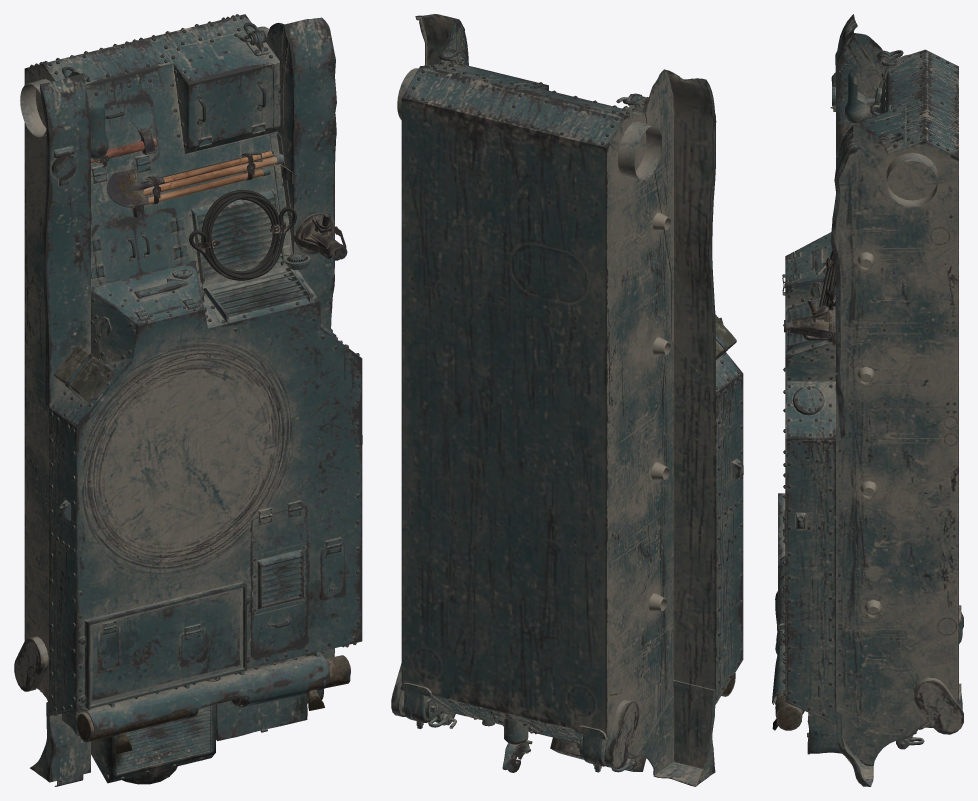
Rendered from Hull.glb.
3 views of the same model, side by side, from view 1: azimuth 30°, elevation 25°; view 2: azimuth 150°, elevation 25°; view 3: azimuth 270°, elevation 25° (orthographic). The views are drawn at different scales.
Visible parts, largest first — view 1: set_0_group_0; view 2: set_0_group_0; view 3: set_0_group_0.
Part boxes in pixels (<box>): set_0_group_0: <box>14,14,362,786</box>; set_0_group_0: <box>391,14,743,786</box>; set_0_group_0: <box>772,14,963,786</box>.
Size of the model in its own units: 1.73 by 3.89 by 1.02.
Materials: 1 (1 with a texture image).
